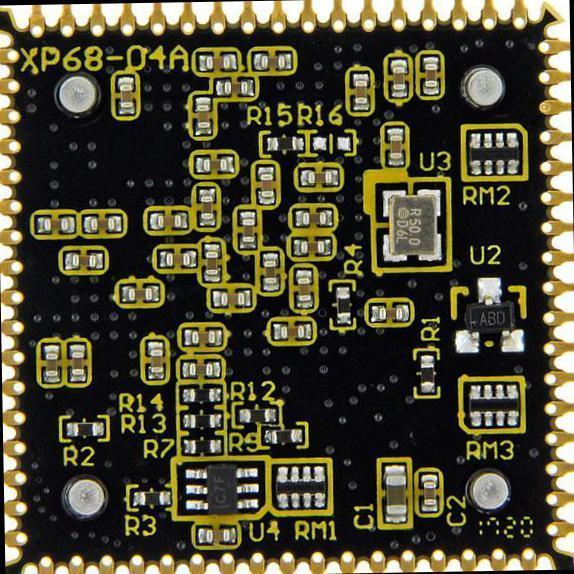Capacitor: (375, 459, 410, 527), (415, 470, 439, 516)
Connector: (531, 36, 573, 542), (22, 0, 534, 40), (0, 43, 31, 551), (32, 544, 539, 573)
IC: (369, 175, 450, 270), (447, 274, 525, 356), (173, 456, 268, 518)
Pads: (310, 129, 357, 156)
Resistor: (459, 376, 523, 434), (460, 124, 524, 180), (270, 459, 331, 512), (61, 415, 108, 440), (329, 280, 353, 327), (258, 130, 303, 155), (128, 483, 172, 508), (177, 408, 224, 431), (179, 382, 224, 405), (259, 425, 304, 448), (233, 403, 280, 425), (177, 435, 224, 454)
